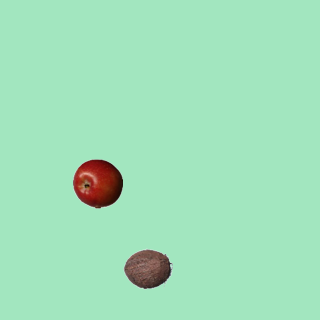Apple Braeburn: (72, 158, 122, 208)
Cocos: (122, 243, 172, 293)
